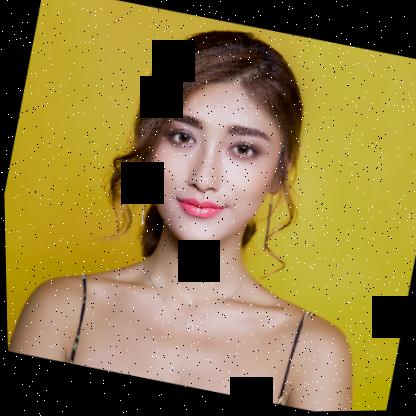Female: (131, 64, 303, 262)
